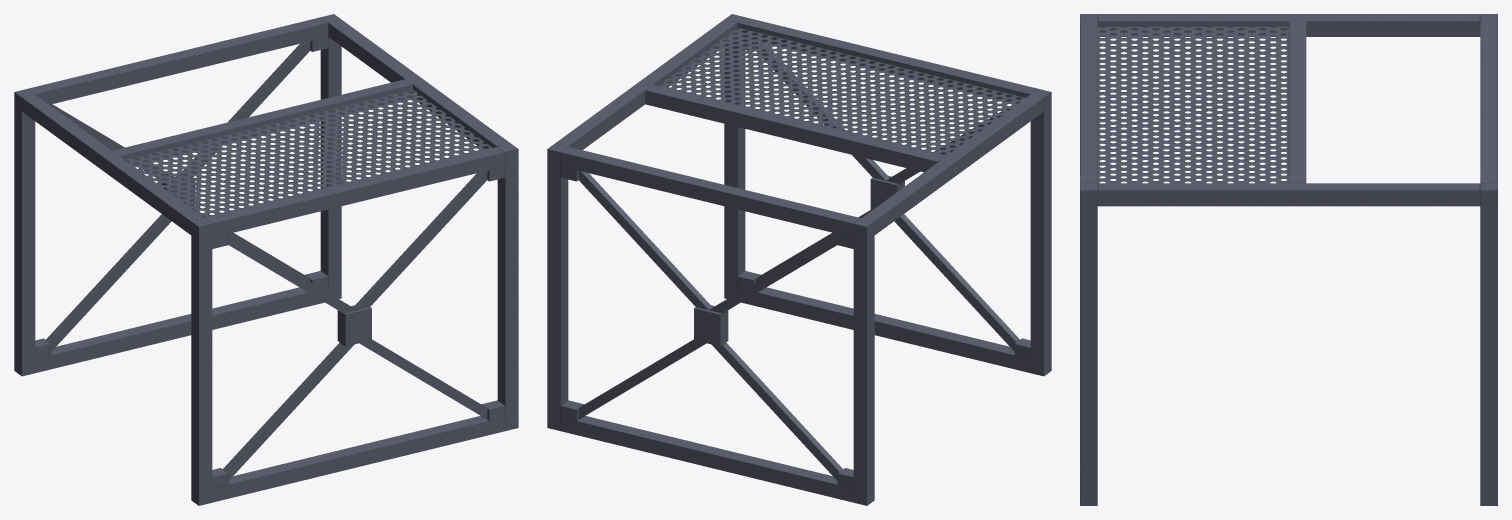
The model's file is Platerform_Metal_06.FBX.
3 views of the same model, side by side, from view 1: azimuth 30°, elevation 25°; view 2: azimuth 150°, elevation 25°; view 3: azimuth 270°, elevation 25° (orthographic). The views are drawn at different scales.
Parts seen in each view (by area): view 1: Platerform_Metal_06; view 2: Platerform_Metal_06; view 3: Platerform_Metal_06.
Part boxes in pixels (x1,y1,x2,y2): Platerform_Metal_06: (14, 14, 518, 505); Platerform_Metal_06: (547, 14, 1051, 505); Platerform_Metal_06: (1080, 14, 1497, 505).
Size of the model in its own units: 6 by 5 by 6.
3 materials, 3 textured.
